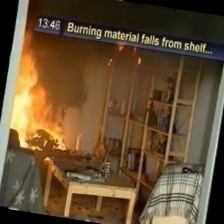fire: (5, 25, 85, 153)
